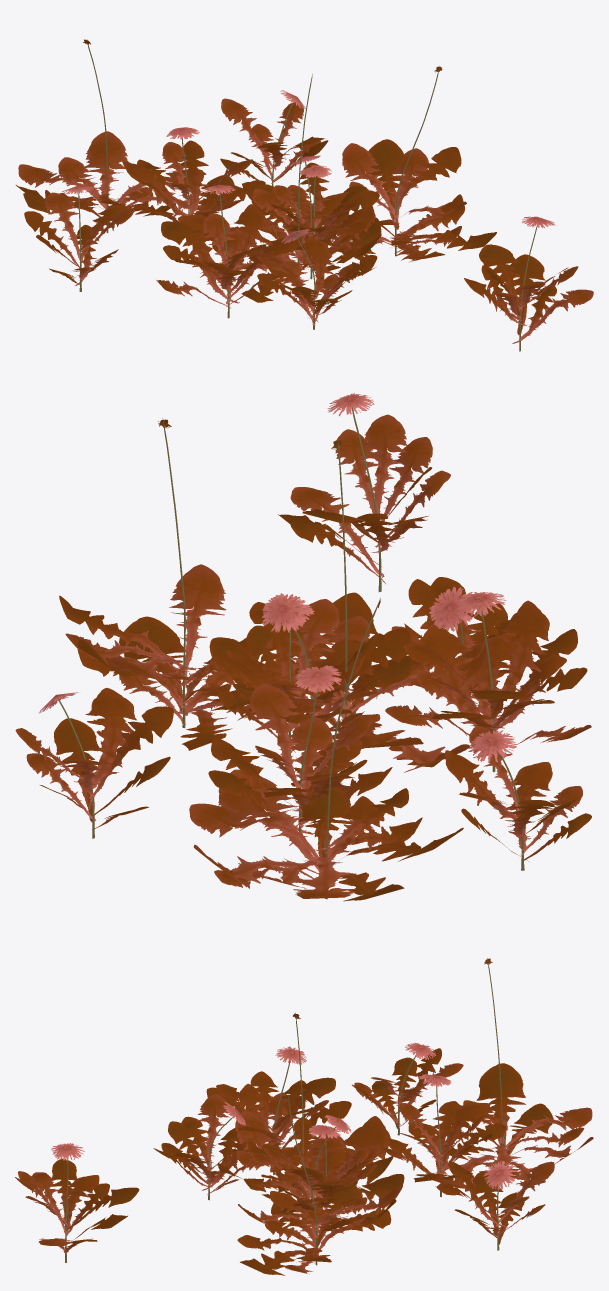
The picture shows the model from 3 angles, top to bottom: view 1: azimuth 30°, elevation 25°; view 2: azimuth 150°, elevation 25°; view 3: azimuth 270°, elevation 25°; orthographic projection. The views are drawn at different scales.
Visible parts, largest first — view 1: SM_DR_Dandelion_01_LOD0; view 2: SM_DR_Dandelion_01_LOD0; view 3: SM_DR_Dandelion_01_LOD0.
Boxes of the visible parts, x1=… form: SM_DR_Dandelion_01_LOD0: x1=16, y1=39, x2=593, y2=351; SM_DR_Dandelion_01_LOD0: x1=15, y1=393, x2=591, y2=901; SM_DR_Dandelion_01_LOD0: x1=15, y1=958, x2=593, y2=1275.
Bounding box in the file's own units: 0.7871 × 0.4565 × 1.04.
Materials: 1 (1 with a texture image).
